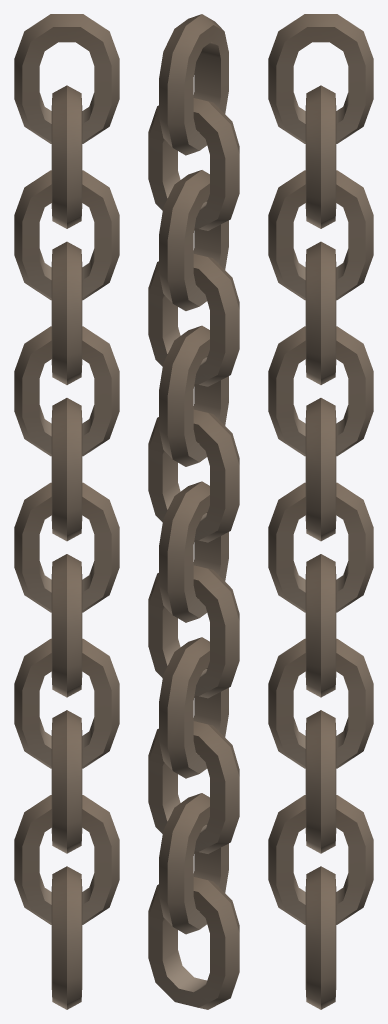
File: chain_hanging_A_chain.glb
The picture shows the model from 3 angles, left to right: view 1: azimuth 90°, elevation 25°; view 2: azimuth 150°, elevation 25°; view 3: azimuth 270°, elevation 25°; orthographic projection.
Visible parts, largest first — view 1: chain; view 2: chain; view 3: chain.
Boxes of the visible parts, box(x1,y1,x2,y2) form: chain: box(14, 14, 119, 1009); chain: box(148, 14, 239, 1009); chain: box(268, 14, 373, 1009).
Bounding box in the file's own units: 0.1702 × 1.76 × 0.1702.
Materials: 1 (1 with a texture image).
